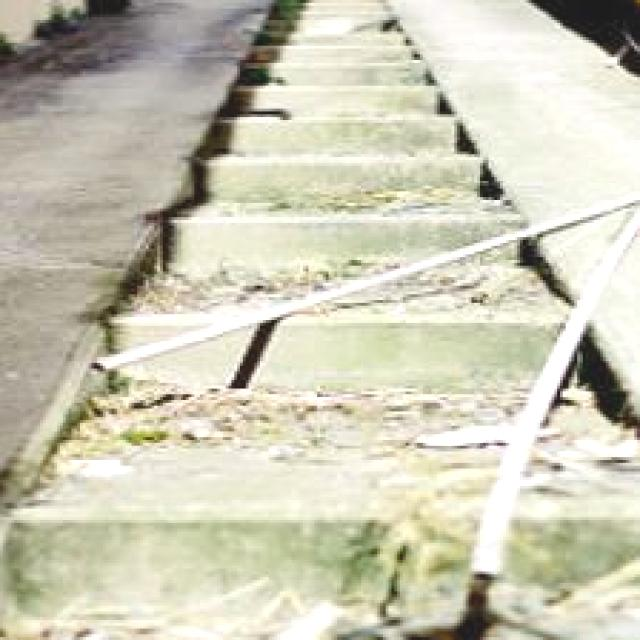upstair: (69, 169, 624, 584)
